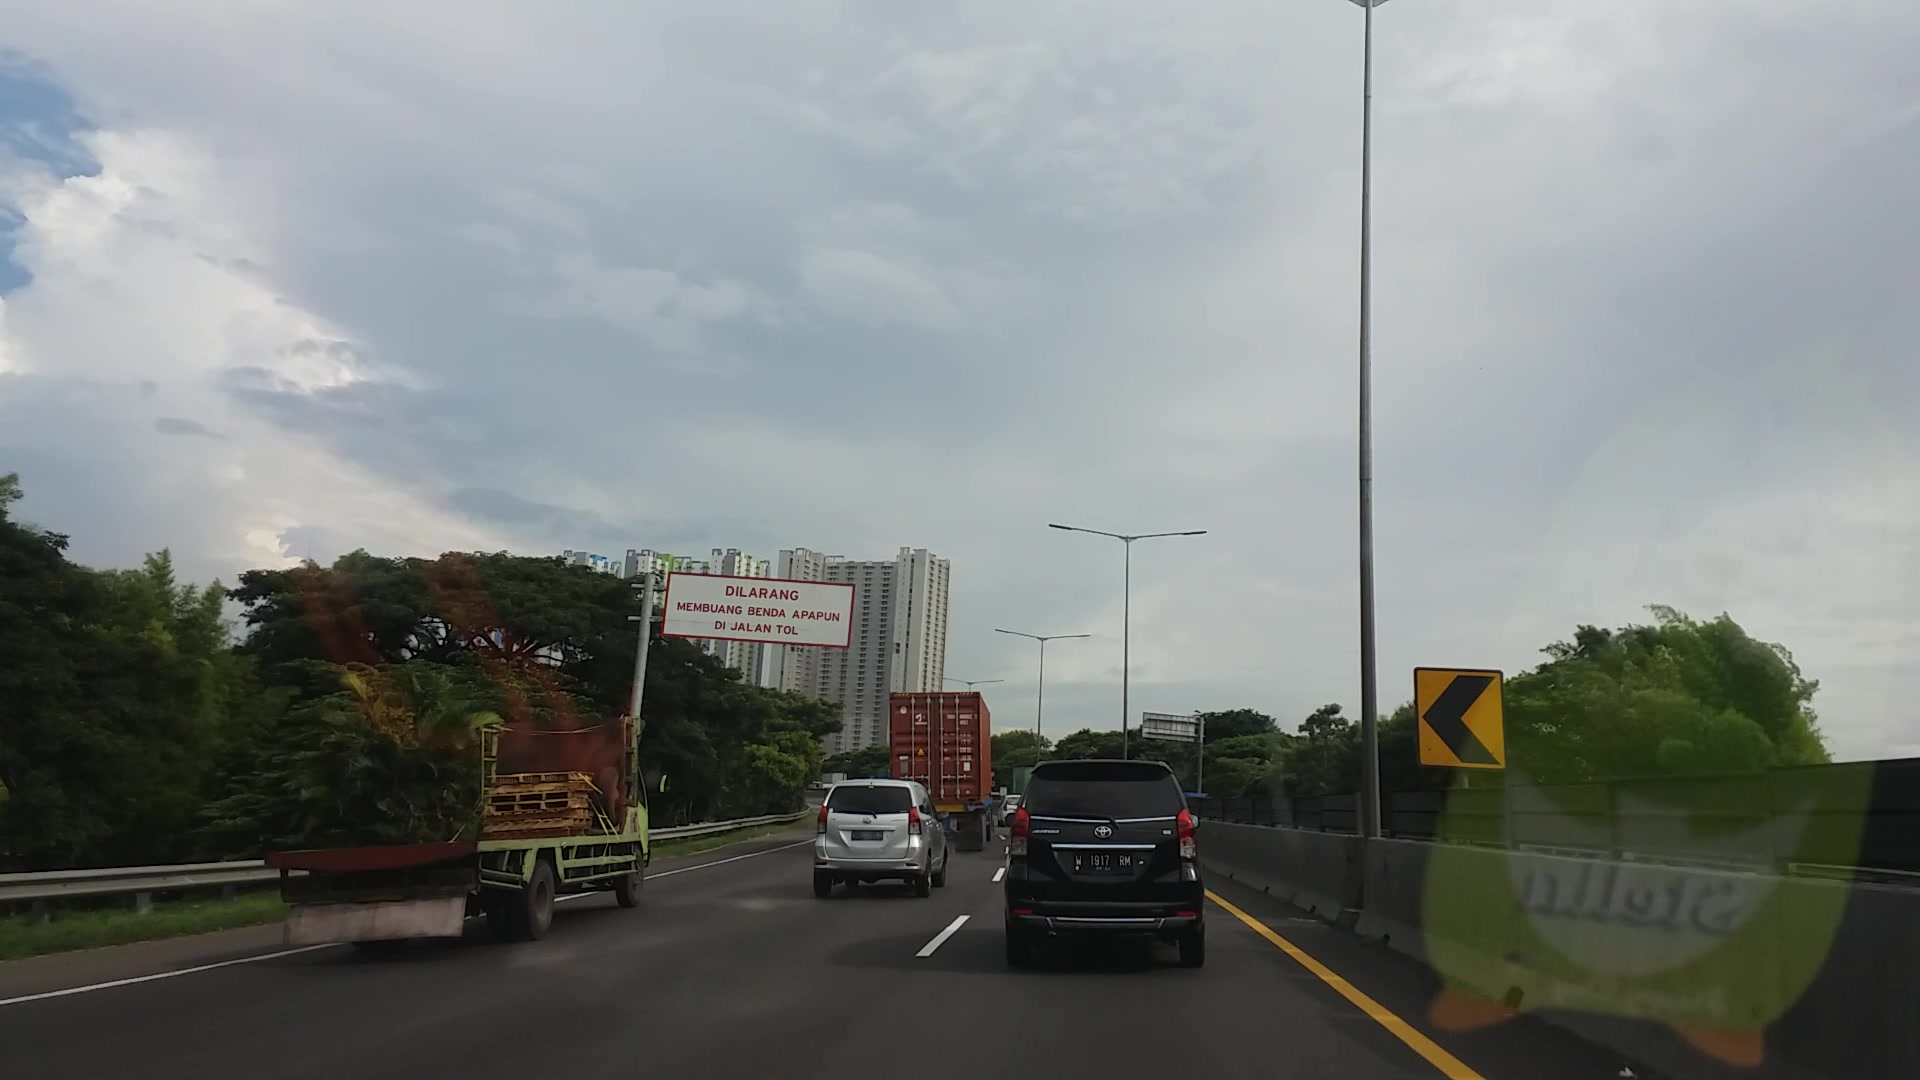plate_positive: (1073, 851, 1133, 874)
